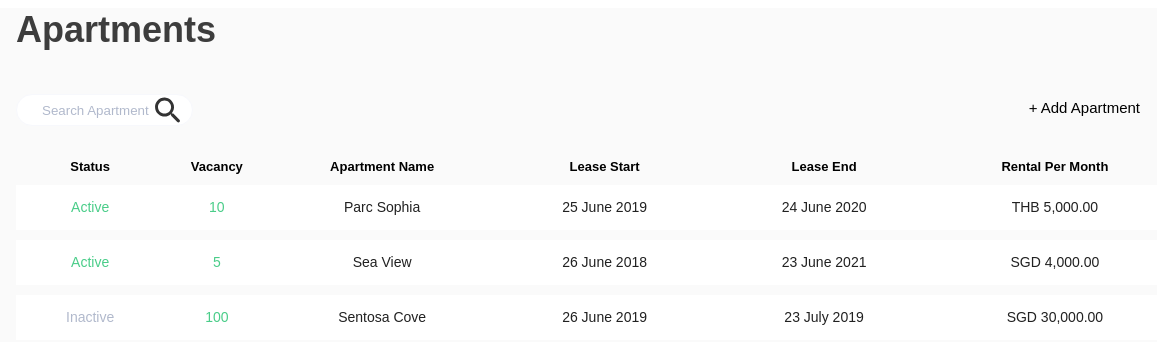
Apartment › should be able to filter apartments using searchbar correctly
Type "p" into the field with placeholder "Search Apartment" at (104, 110), box [16,94,193,126]
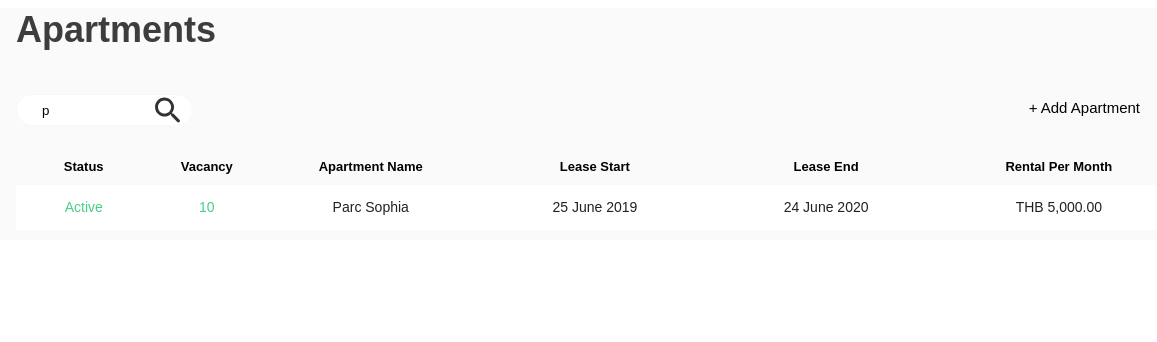
Expected: the text "Parc Sophia" is shown, [262,185,479,230]
Now the text "Sea View" is gone
